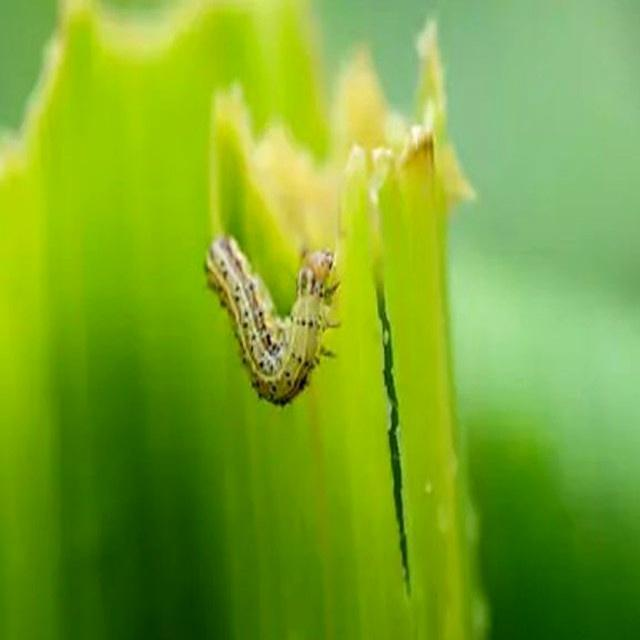Plaga: (199, 230, 345, 409)
